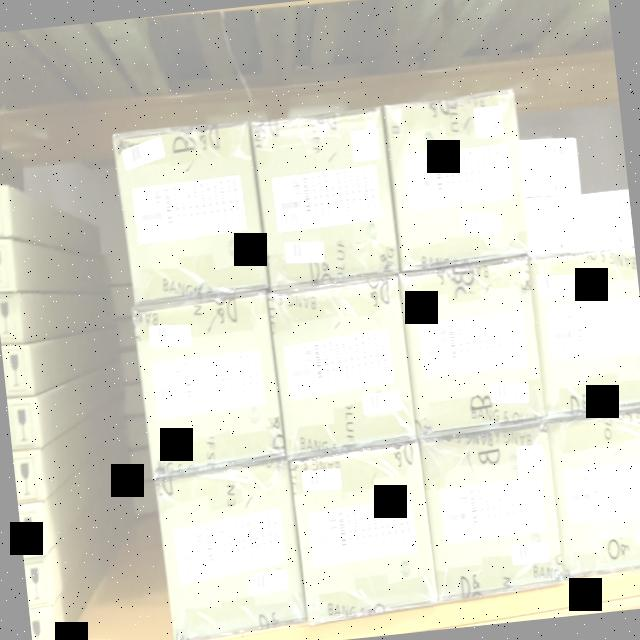box: (115, 117, 268, 306), (152, 462, 310, 636), (268, 276, 421, 454), (250, 109, 400, 288), (384, 92, 529, 276), (292, 445, 438, 621), (134, 297, 286, 465), (421, 419, 563, 596), (400, 260, 544, 430), (529, 245, 640, 420), (546, 404, 640, 582)
